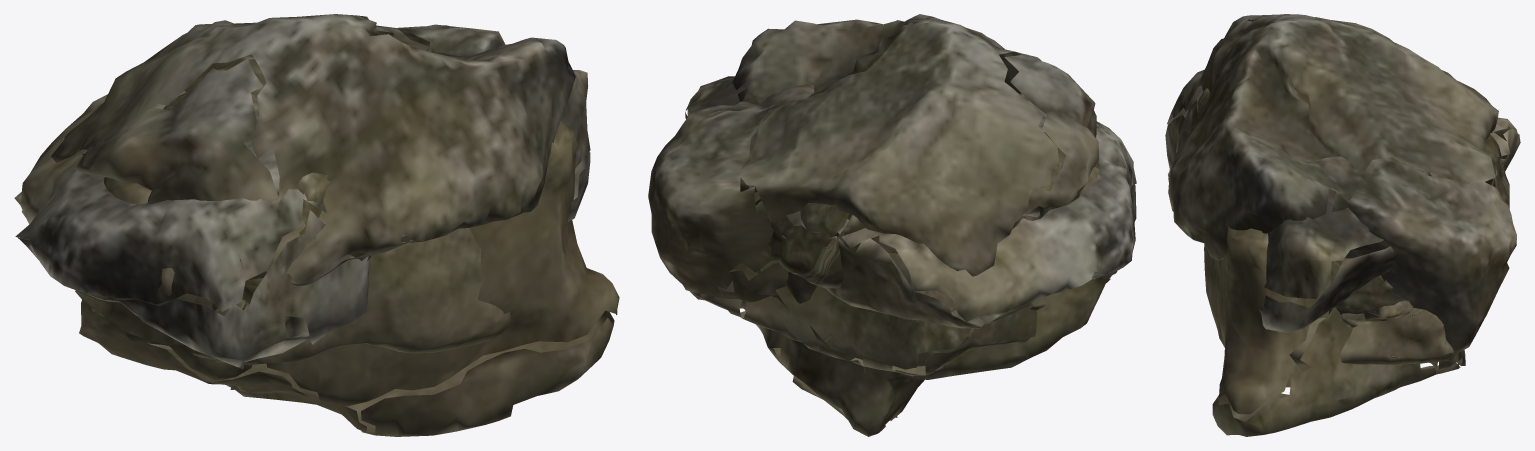
The model's file is rocks-moss2.glb.
The picture shows the model from 3 angles, left to right: view 1: azimuth 30°, elevation 25°; view 2: azimuth 150°, elevation 25°; view 3: azimuth 270°, elevation 25°; orthographic projection. The views are drawn at different scales.
Visible parts, largest first — view 1: rock_moss_set_02_rock11, rock_moss_set_02_rock13, rock_moss_set_02_rock10, rock_moss_set_02_rock07, rock_moss_set_02_rock12; view 2: rock_moss_set_02_rock11, rock_moss_set_02_rock10, rock_moss_set_02_rock07, rock_moss_set_02_rock13, rock_moss_set_02_rock12; view 3: rock_moss_set_02_rock11, rock_moss_set_02_rock13, rock_moss_set_02_rock10, rock_moss_set_02_rock07, rock_moss_set_02_rock12, rock_moss_set_02_rock09.
Part boxes in pixels (bbox=[...]): rock_moss_set_02_rock11: bbox=[51, 14, 575, 285]; rock_moss_set_02_rock13: bbox=[75, 91, 619, 436]; rock_moss_set_02_rock10: bbox=[14, 49, 590, 368]; rock_moss_set_02_rock07: bbox=[102, 228, 512, 364]; rock_moss_set_02_rock12: bbox=[163, 54, 370, 304]; rock_moss_set_02_rock11: bbox=[648, 14, 1099, 338]; rock_moss_set_02_rock10: bbox=[685, 76, 1136, 328]; rock_moss_set_02_rock07: bbox=[693, 205, 1037, 376]; rock_moss_set_02_rock13: bbox=[744, 166, 1130, 436]; rock_moss_set_02_rock12: bbox=[740, 93, 1066, 288]; rock_moss_set_02_rock11: bbox=[1168, 14, 1516, 361]; rock_moss_set_02_rock13: bbox=[1212, 226, 1465, 436]; rock_moss_set_02_rock10: bbox=[1165, 69, 1520, 332]; rock_moss_set_02_rock07: bbox=[1204, 243, 1454, 364]; rock_moss_set_02_rock12: bbox=[1187, 88, 1509, 320]; rock_moss_set_02_rock09: bbox=[1341, 300, 1412, 327].
Bounding box in the file's own units: 2.19 × 1.68 × 1.54.
Materials: 1 (1 with a texture image).
